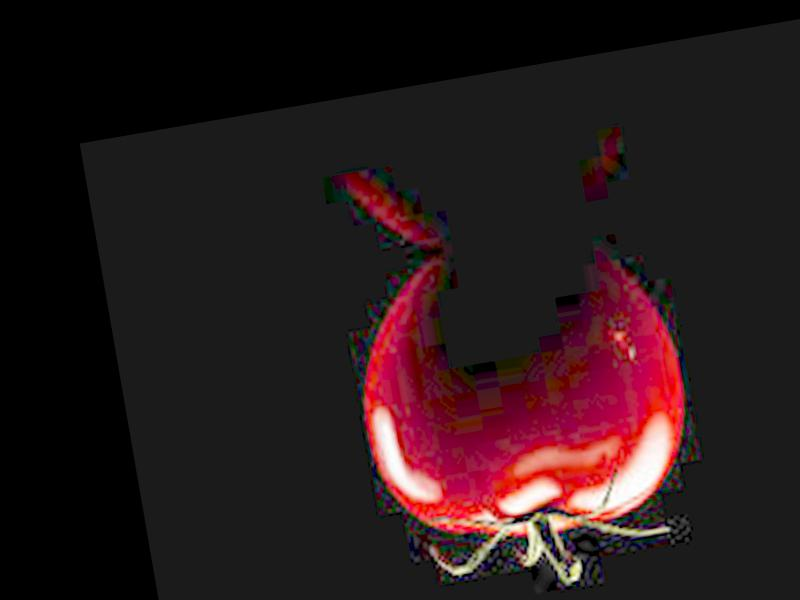Tomato: (343, 229, 705, 568)
